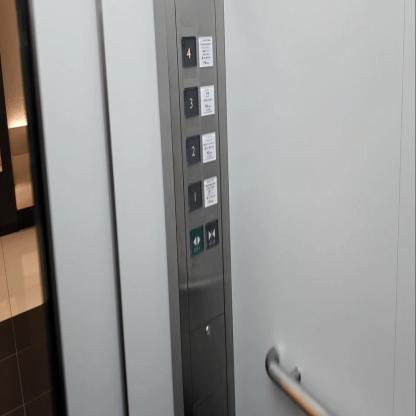1: (188, 179, 202, 212)
2: (186, 134, 200, 165)
3: (183, 86, 199, 118)
4: (180, 36, 196, 67)
close: (204, 218, 219, 249)
open: (189, 224, 204, 256)
